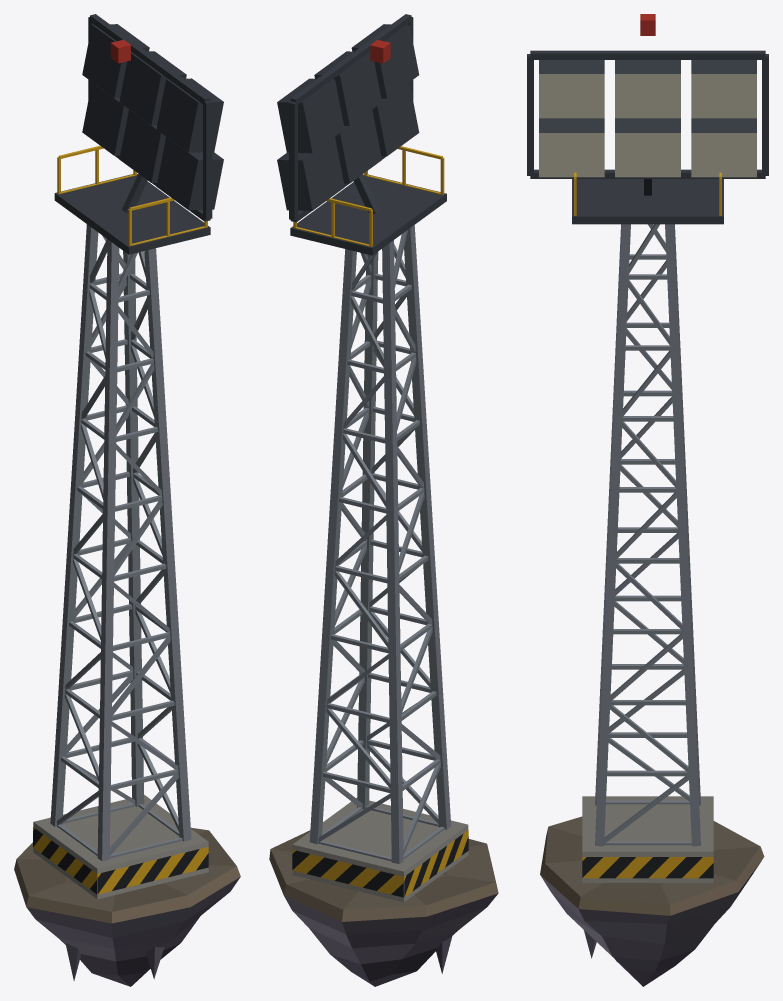
File: light_mast.glb
3 views of the same model, side by side, from view 1: azimuth 30°, elevation 25°; view 2: azimuth 150°, elevation 25°; view 3: azimuth 270°, elevation 25° (orthographic). The views are drawn at different scales.
Parts seen in each view (by area): view 1: Mast, Rock; view 2: Mast, Rock; view 3: Mast, Rock.
Part boxes in pixels (x1,y1,x2,y2): Mast: [33, 14, 223, 899]; Rock: [14, 827, 240, 986]; Mast: [277, 14, 468, 902]; Rock: [269, 830, 498, 986]; Mast: [527, 14, 768, 882]; Rock: [540, 816, 764, 986].
Bounding box in the file's own units: 3.52 × 15.41 × 3.5.
